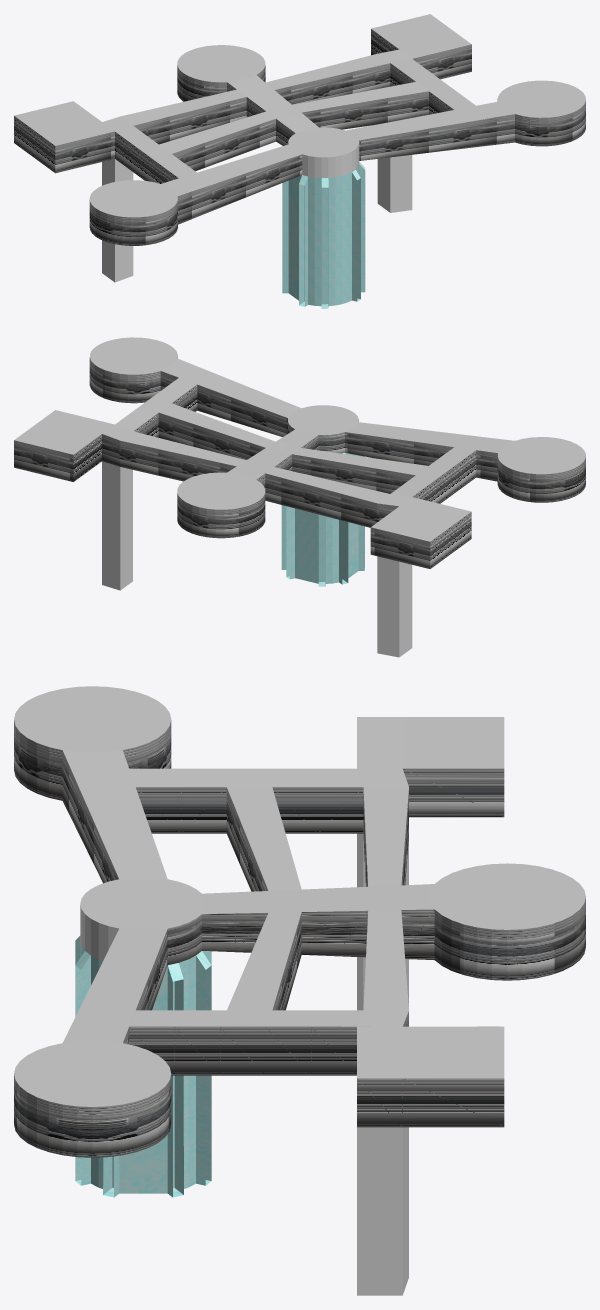
File: ship_parts.fbx
The picture shows the model from 3 angles, top to bottom: view 1: azimuth 30°, elevation 25°; view 2: azimuth 150°, elevation 25°; view 3: azimuth 270°, elevation 25°; orthographic projection. The views are drawn at different scales.
Parts seen in each view (by area): view 1: top.001, top, bot, plane.001, Circle.003; view 2: top.001, top, plane.001, bot; view 3: top, top.001, bot, plane.001, Circle.003.
Part boxes in pixels (x1,y1,x2,y2): top.001: (14,29,585,245); top: (14,14,585,217); bot: (282,162,365,308); plane.001: (102,155,412,282); Circle.003: (302,144,359,177); top.001: (14,357,585,568); top: (14,337,585,541); plane.001: (102,461,412,657); bot: (281,453,364,586); top: (14,686,585,1106); top.001: (14,720,585,1157); bot: (75,936,211,1197); plane.001: (357,833,408,1295); Circle.003: (80,905,118,960).
Size of the model in its own units: 88185 by 26573 by 50651.
